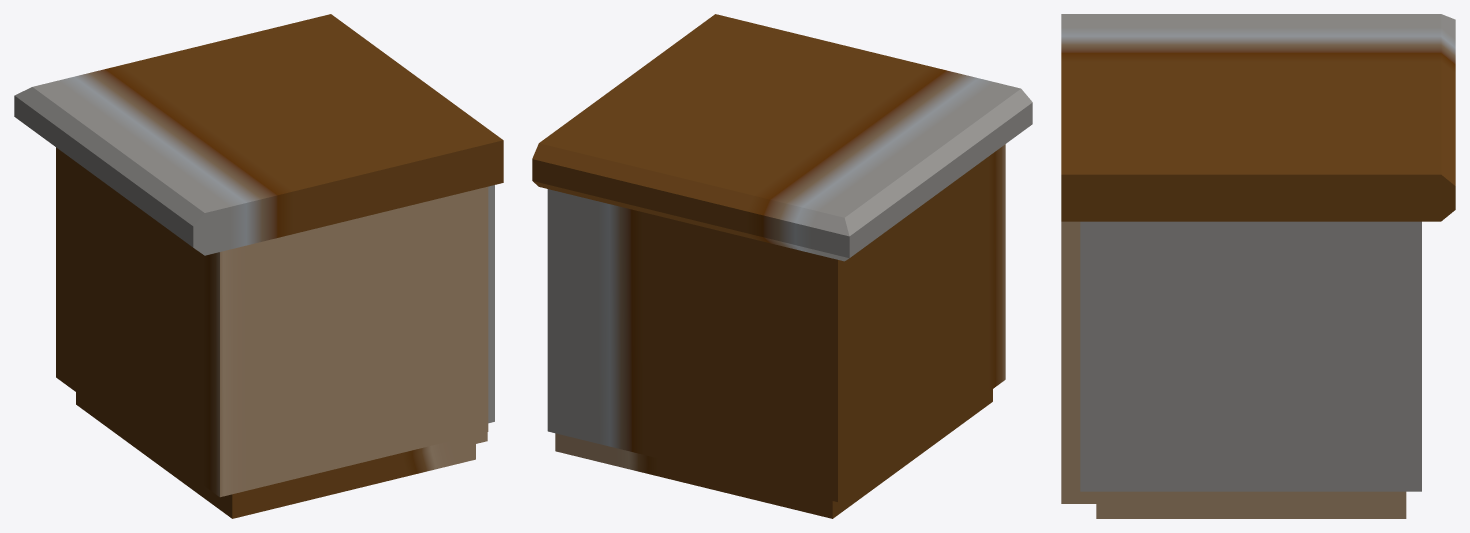
File: SM_Bench_Corner_Inner.fbx
3 views of the same model, side by side, from view 1: azimuth 30°, elevation 25°; view 2: azimuth 150°, elevation 25°; view 3: azimuth 270°, elevation 25° (orthographic). The views are drawn at different scales.
Visible parts, largest first — view 1: SM_Bench_Corner_Inner; view 2: SM_Bench_Corner_Inner; view 3: SM_Bench_Corner_Inner.
Part boxes in pixels (box(x1,y1,x2,y2)): SM_Bench_Corner_Inner: box(14, 14, 503, 518); SM_Bench_Corner_Inner: box(532, 14, 1032, 518); SM_Bench_Corner_Inner: box(1061, 14, 1455, 518).
Bounding box in the file's own units: 1.04 × 1 × 1.04.
